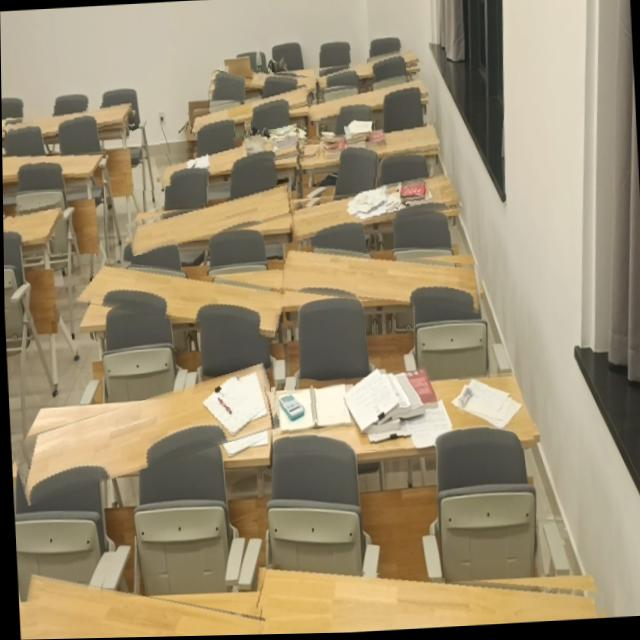Non-empty: (26, 365, 270, 502), (271, 376, 533, 454), (293, 176, 460, 241), (161, 125, 297, 188), (301, 124, 439, 170), (210, 66, 315, 94)
empty: (254, 565, 596, 627), (21, 573, 263, 638), (73, 264, 284, 336), (279, 250, 477, 316), (132, 183, 289, 252), (190, 86, 305, 134), (311, 74, 427, 121), (8, 102, 130, 144), (320, 48, 421, 91), (2, 151, 105, 179), (2, 205, 58, 242)
